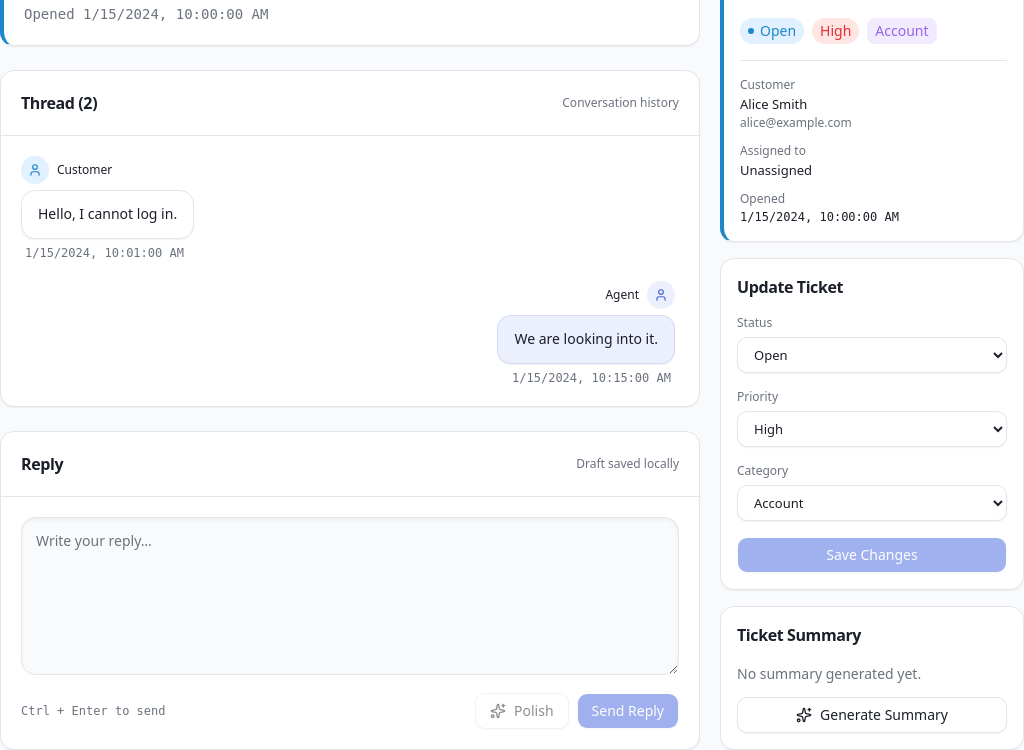
Scenario: TicketDetail page › Send Reply is disabled while polishing is in progress
(page scrolled)
Type "rough draft" into the text box with placeholder "Write your reply…" at (350, 596), box top-left (21, 516), bottom-right (679, 674)
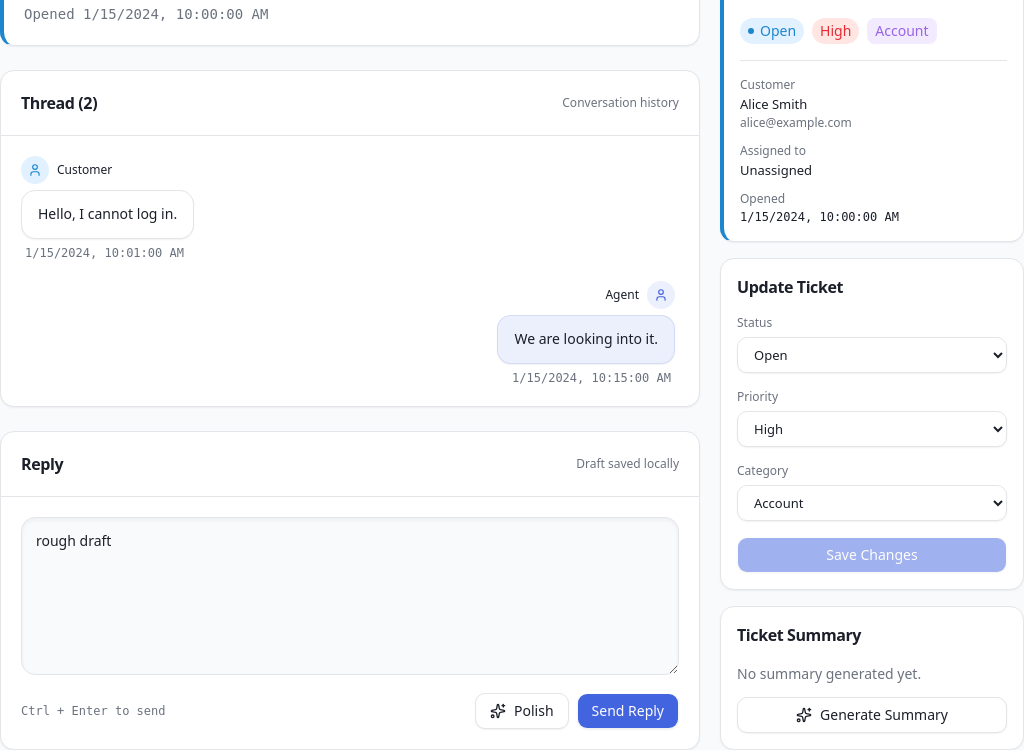
Click the button "Polish" at (522, 710), box top-left (475, 692), bottom-right (568, 728)
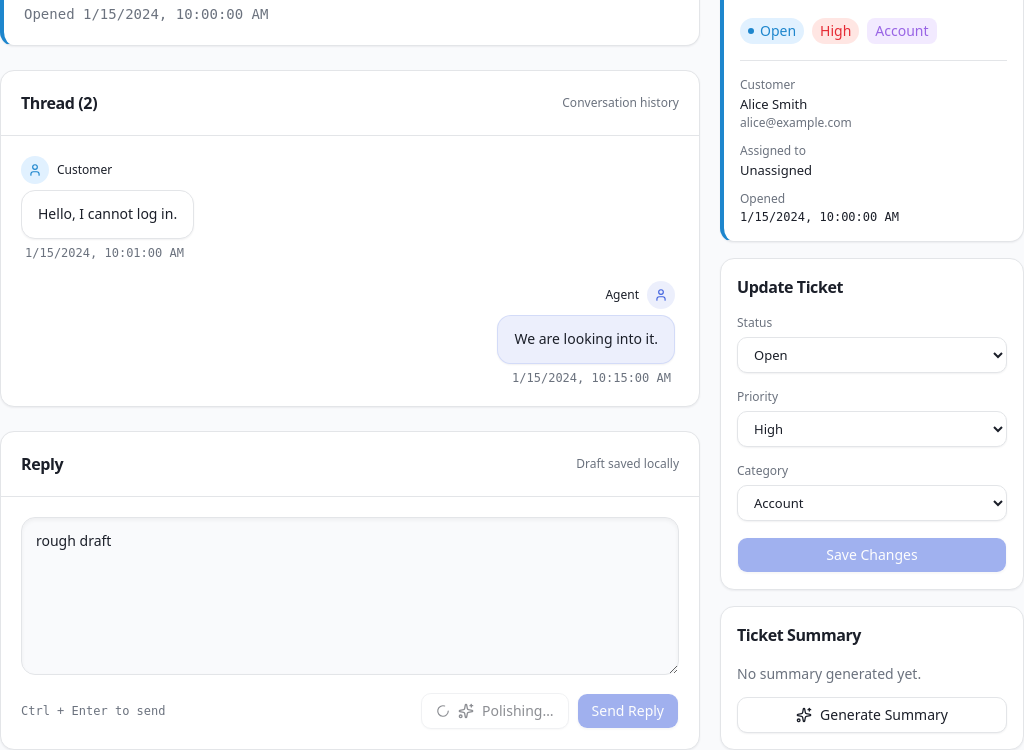
Now the button "Polishing…" is shown, box top-left (421, 692), bottom-right (569, 728)
Now the button "Send Reply" is disabled, box top-left (576, 692), bottom-right (679, 728)
